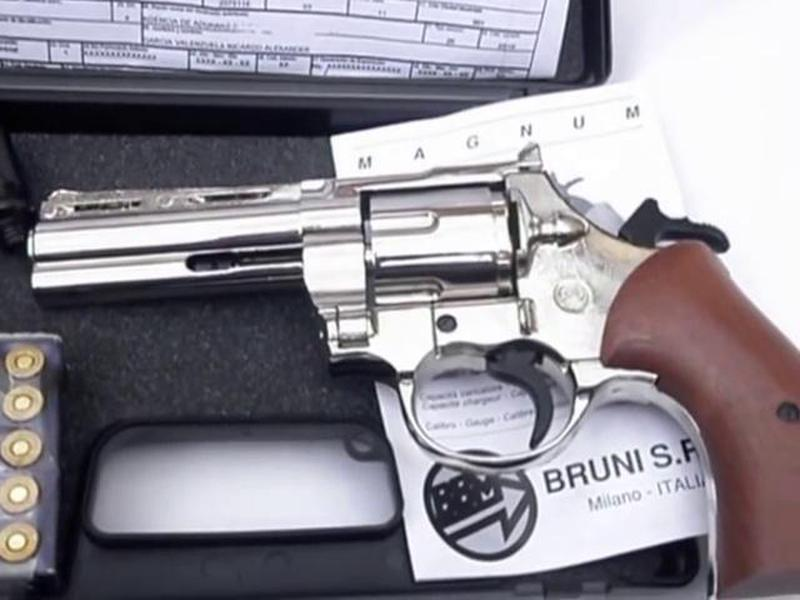Revolver: (30, 107, 783, 586)
